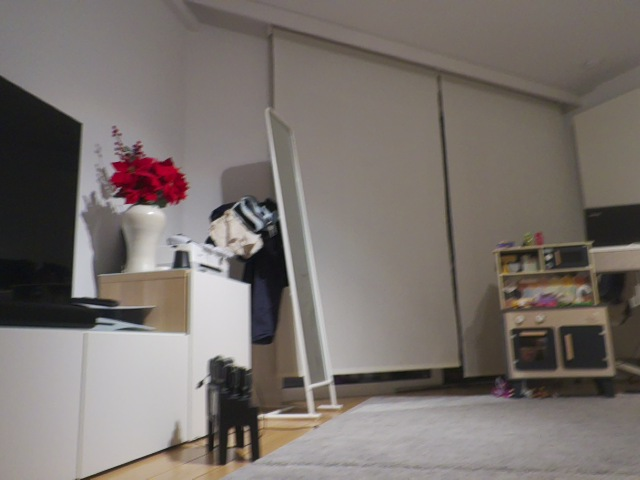carpet: (230, 395, 639, 479)
flower: (83, 123, 199, 228)
furniture: (0, 264, 262, 480), (494, 238, 617, 405)
loudspeaker: (0, 301, 105, 328)
mirror: (265, 104, 341, 419)
roll: (271, 19, 588, 382)
tv: (0, 76, 81, 302)
vase: (124, 205, 165, 271)
